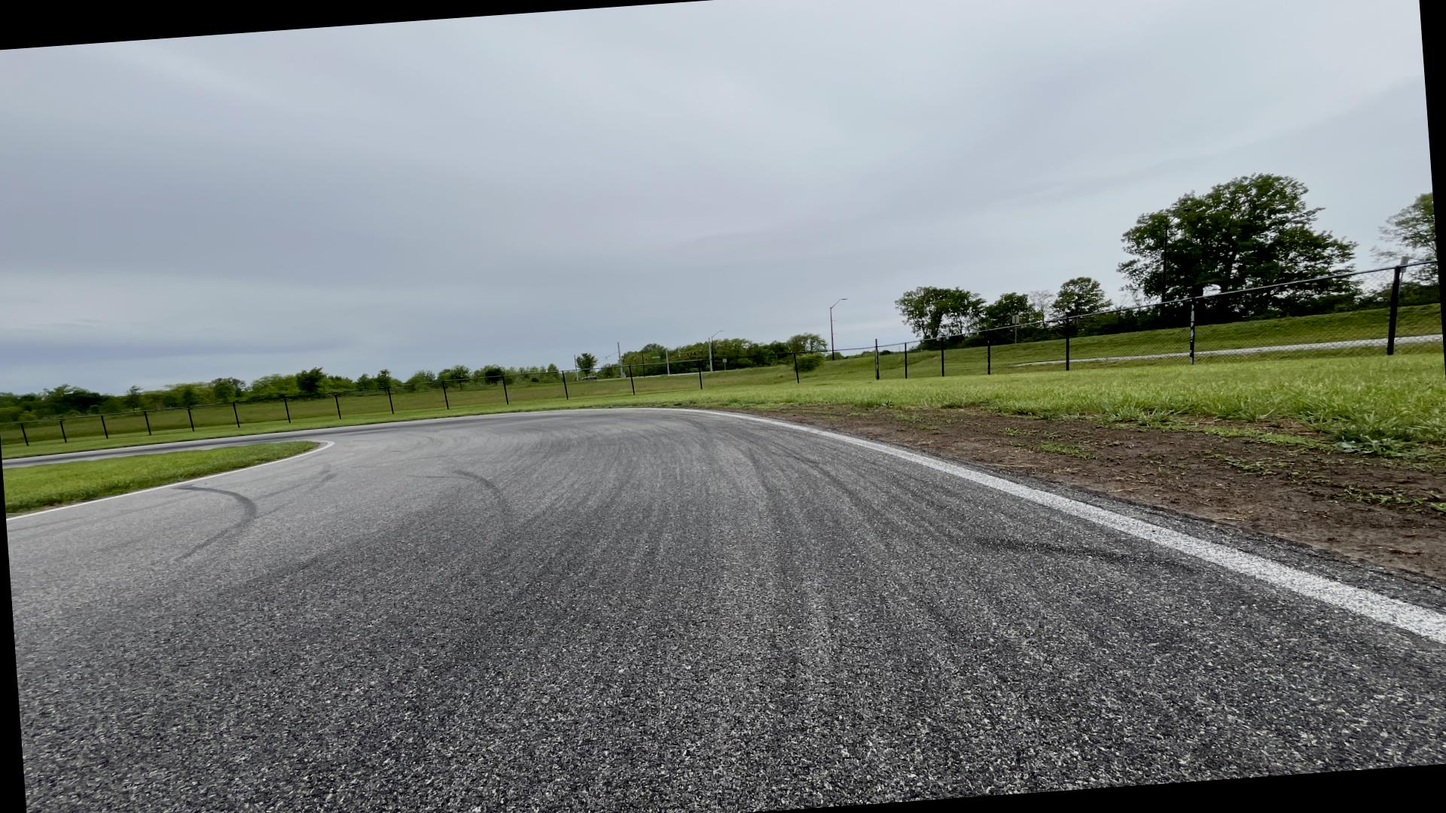white-line: (552, 408, 1445, 646), (6, 441, 335, 520)
